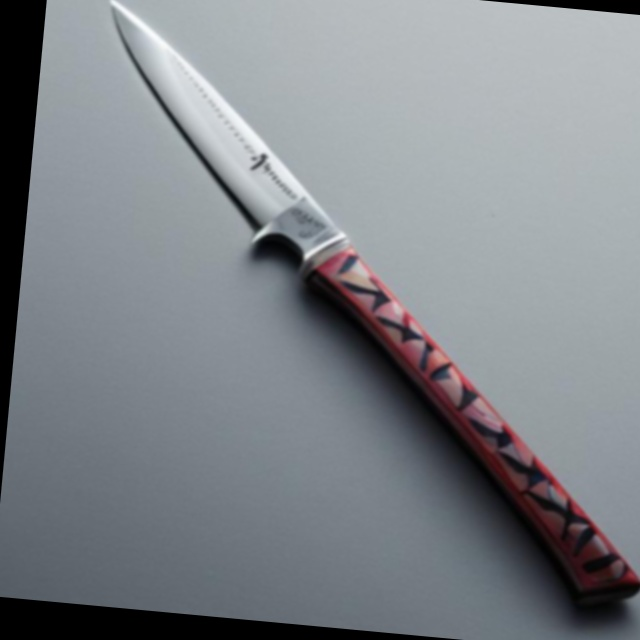Sharp-Object: (52, 0, 640, 623)
